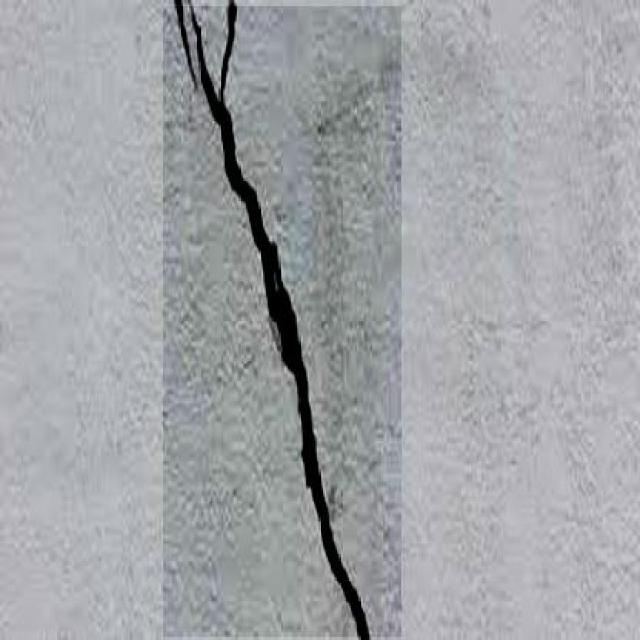Crack: (165, 7, 382, 637)
